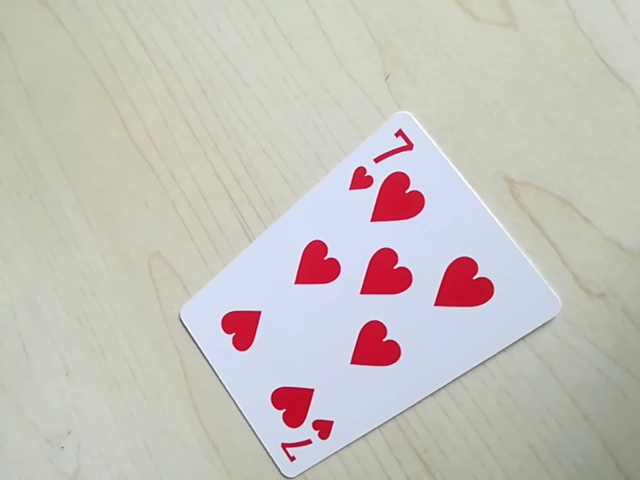hx 7: (353, 125, 420, 183), (269, 423, 338, 471)
